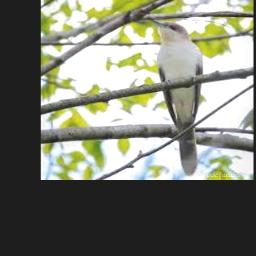Cuckoo: (150, 20, 202, 175)
